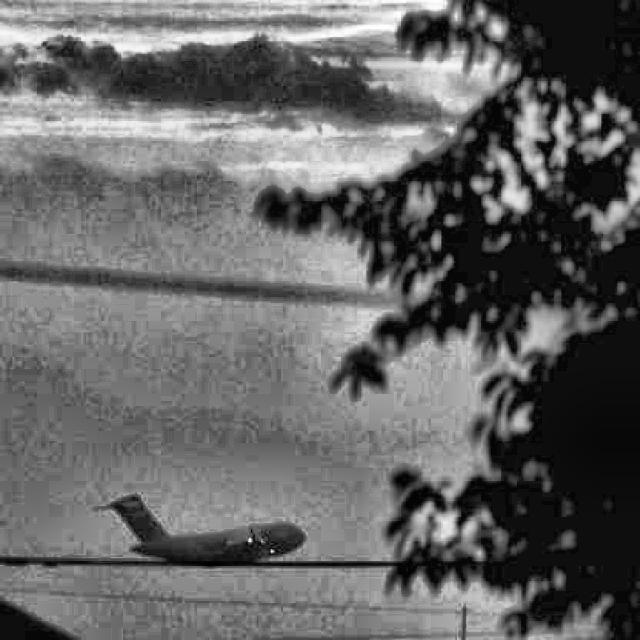C17: (91, 492, 306, 565)
